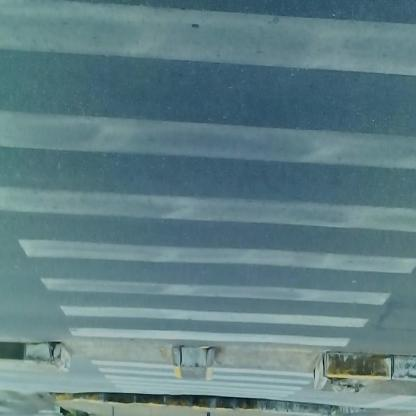crosswalk: (30, 4, 416, 392)
